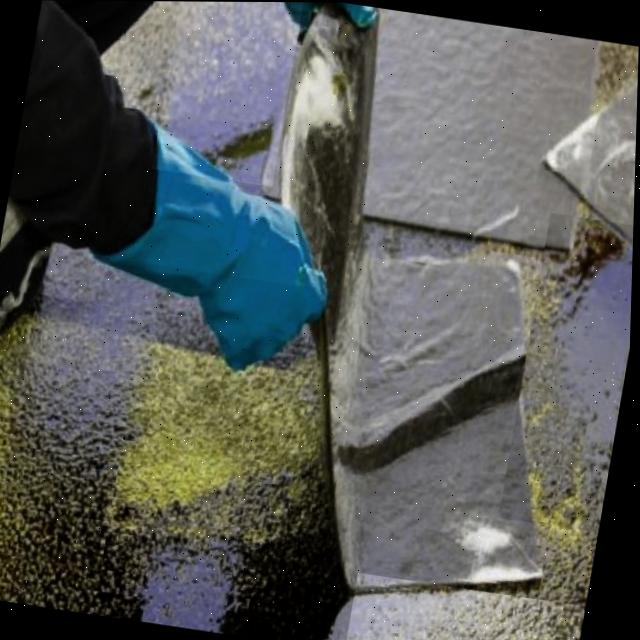spillage: (0, 250, 347, 640), (524, 219, 634, 524), (161, 1, 295, 185), (357, 597, 589, 640)
